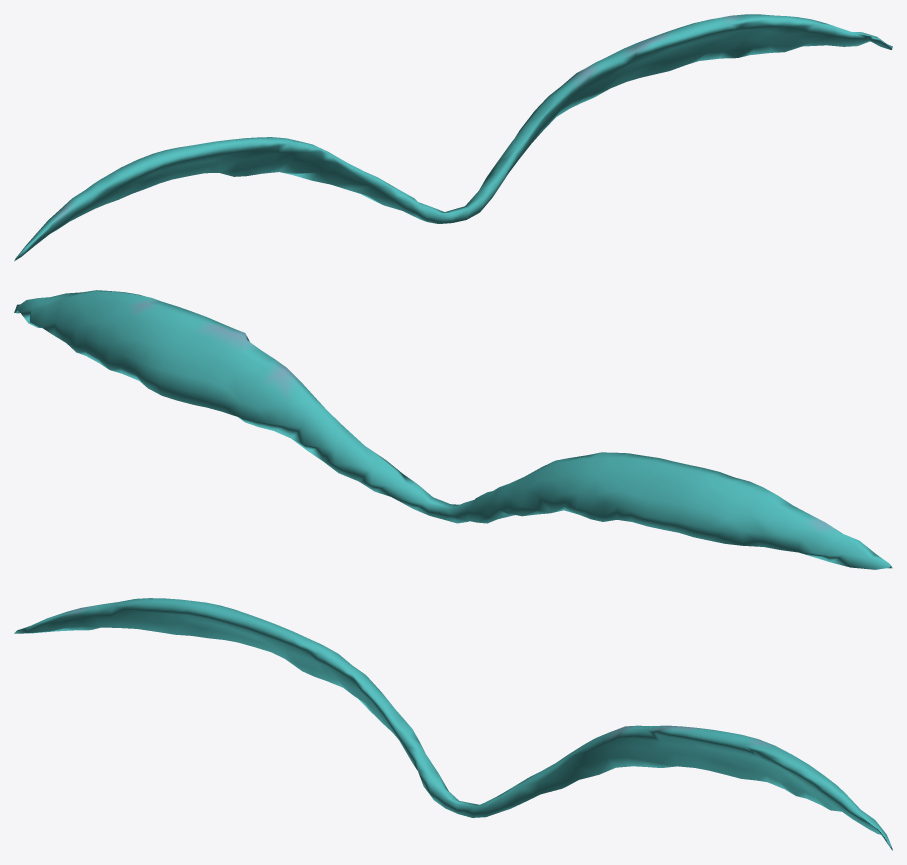
The model's file is Aile-COLOR-Grande.fbx.
The picture shows the model from 3 angles, top to bottom: view 1: azimuth 30°, elevation 25°; view 2: azimuth 150°, elevation 25°; view 3: azimuth 330°, elevation 25°; orthographic projection. The views are drawn at different scales.
Parts seen in each view (by area): view 1: PM3D_Sphere3D_2; view 2: PM3D_Sphere3D_2; view 3: PM3D_Sphere3D_2.
Part boxes in pixels (bbox=[...]): PM3D_Sphere3D_2: bbox=[14, 14, 892, 261]; PM3D_Sphere3D_2: bbox=[14, 290, 892, 569]; PM3D_Sphere3D_2: bbox=[14, 598, 892, 850].
Bounding box in the file's own units: 7.46 × 1.14 × 0.8745.
